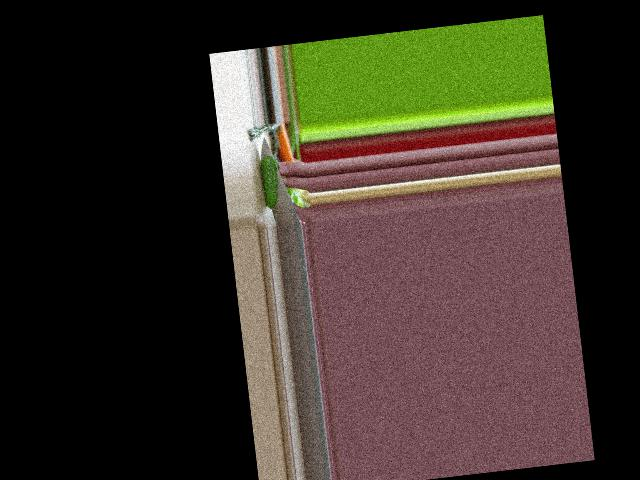cucumber: (258, 154, 280, 209)
